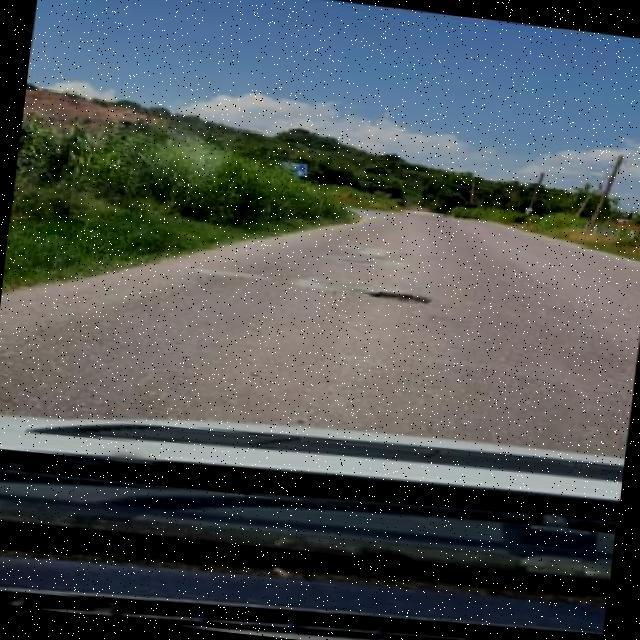Pothole: (360, 290, 431, 303)
